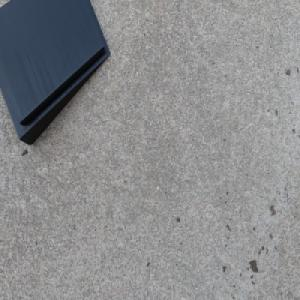PlasticPart: (0, 0, 112, 146)
